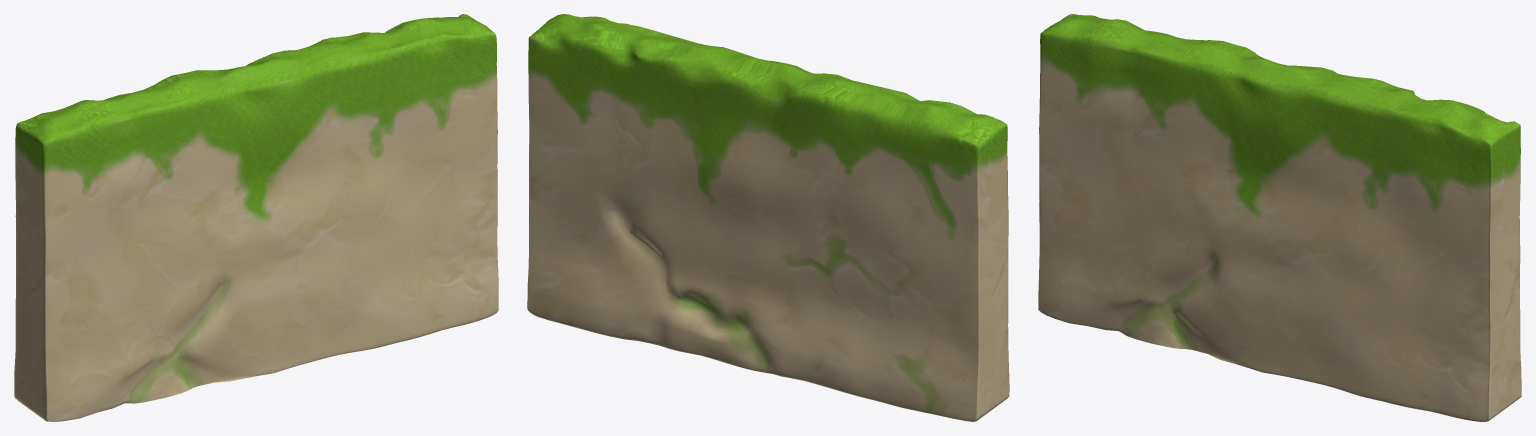
Rendered from sm_Main Wall 2 F.fbx.
3 renders of one model, left to right at view 1: azimuth 30°, elevation 25°; view 2: azimuth 150°, elevation 25°; view 3: azimuth 330°, elevation 25°, orthographic.
Visible parts, largest first — view 1: Main_Wall_2_Low; view 2: Main_Wall_2_Low; view 3: Main_Wall_2_Low.
Boxes of the visible parts, <box> form: Main_Wall_2_Low: <box>14,14,498,421</box>; Main_Wall_2_Low: <box>527,14,1009,421</box>; Main_Wall_2_Low: <box>1038,14,1521,421</box>.
Size of the model in its own units: 7.4 by 4.66 by 1.07.
